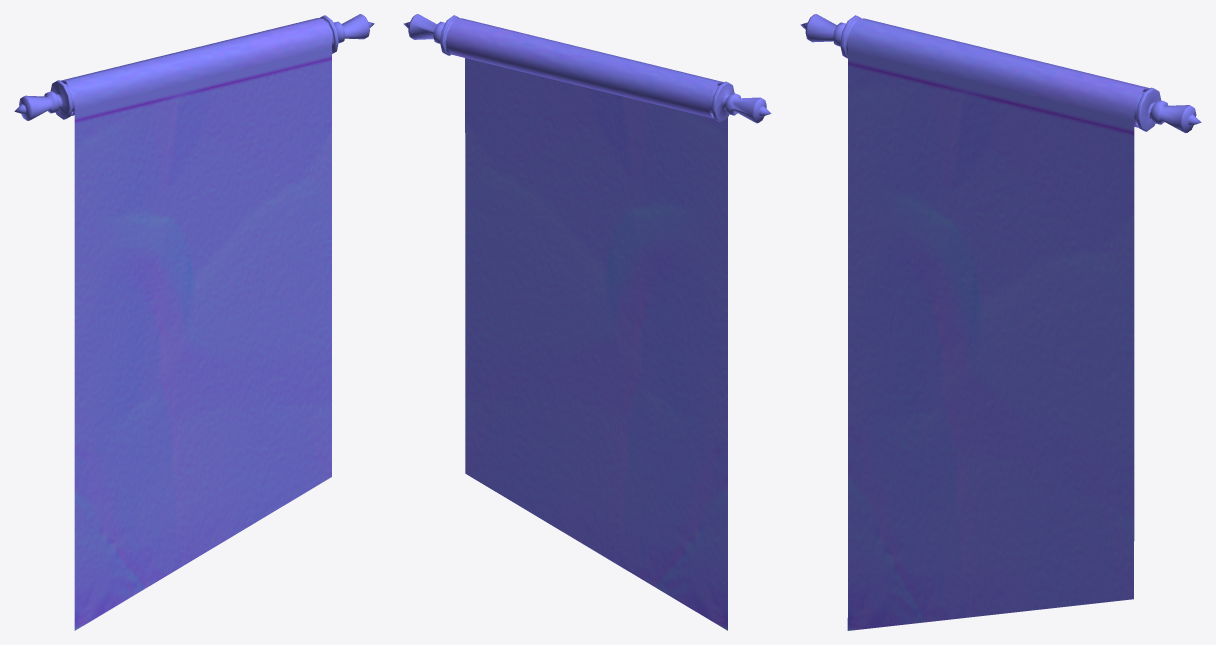
The model's file is WallScroll.fbx.
The picture shows the model from 3 angles, left to right: view 1: azimuth 30°, elevation 25°; view 2: azimuth 150°, elevation 25°; view 3: azimuth 330°, elevation 25°; orthographic projection. The views are drawn at different scales.
Parts seen in each view (by area): view 1: MappedScrolls.001; view 2: MappedScrolls.001; view 3: MappedScrolls.001.
Boxes of the visible parts, x1=… form: MappedScrolls.001: x1=14, y1=14, x2=374, y2=630; MappedScrolls.001: x1=403, y1=14, x2=771, y2=630; MappedScrolls.001: x1=800, y1=14, x2=1201, y2=630.
Size of the model in its own units: 74.05 by 7.17 by 107.
